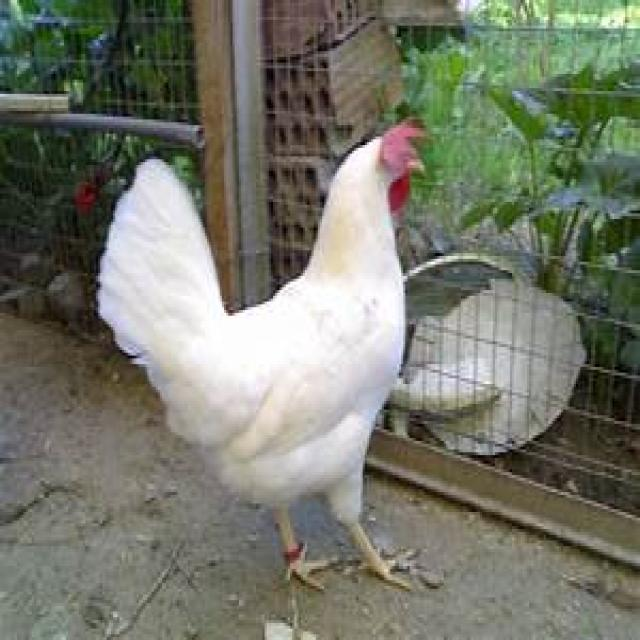hen: (94, 122, 422, 592)
